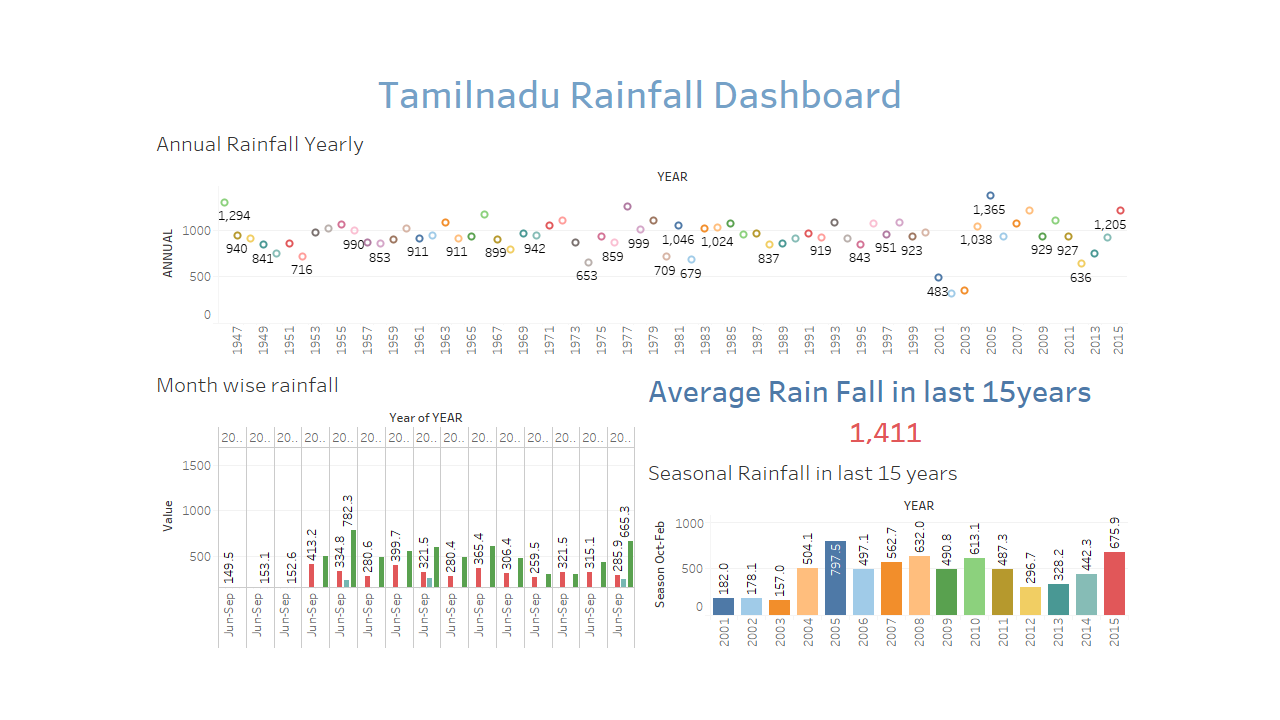

Layout of this report page (visuals, bound fields, positions):
{"tool":"tableau","page":{"name":"Rainfall Dashboard","canvas":[1000,600],"ordinal":0},"visuals":[{"type":"text","box":[8,8,984,50.5]},{"type":"worksheet","title":"Annual Rainfall Yearly","mark":"Shape","rows":["ANNUAL"],"cols":["YEAR"],"box":[8,58.5,984,241.5]},{"type":"worksheet","title":"Month wise rainfall","mark":"Bar","cols":["YEAR"],"box":[8,300,492,292]},{"type":"worksheet","title":"Average Rain Fall in last 15years","mark":"Automatic","box":[500,300,492,88]},{"type":"worksheet","title":"Seasonal Rainfall in last 15 years","mark":"Bar","rows":["Calculation_663155064374702080"],"cols":["YEAR"],"box":[500,388,492,204]}]}

Visuals, with their boxes on the page's 1000x600 design canvas (x1, y1, x2, y2). These are canvas units, not pixel positions in the 1280x720 screenshot, which may show the page scaled, cropped or inside an application window:
text: x1=8, y1=8, x2=992, y2=58
"Annual Rainfall Yearly" worksheet (Shape marks): x1=8, y1=58, x2=992, y2=300
"Month wise rainfall" worksheet (Bar marks): x1=8, y1=300, x2=500, y2=592
"Average Rain Fall in last 15years" worksheet: x1=500, y1=300, x2=992, y2=388
"Seasonal Rainfall in last 15 years" worksheet (Bar marks): x1=500, y1=388, x2=992, y2=592
